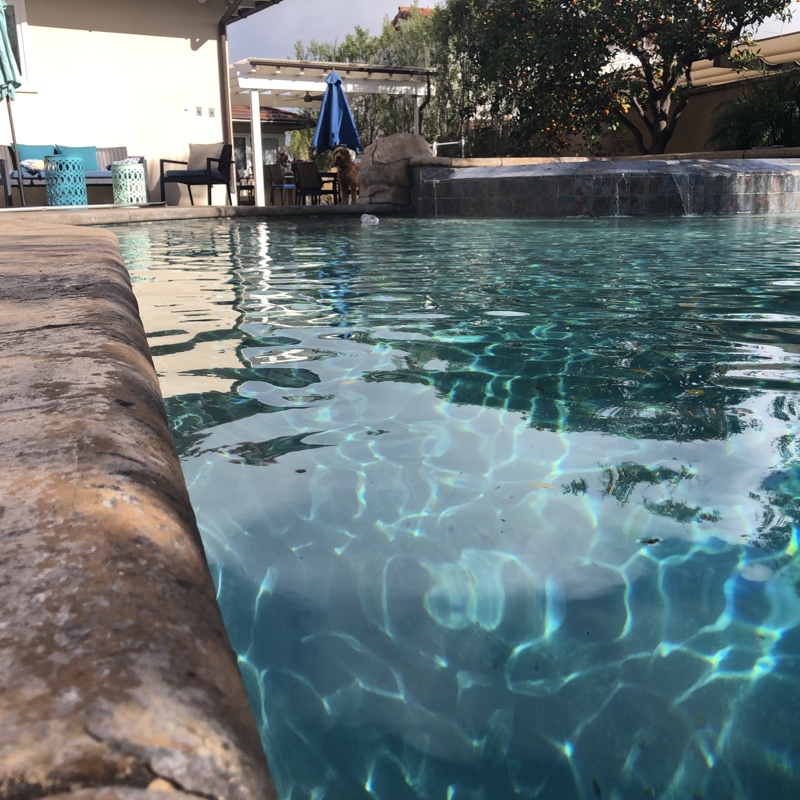Plastic Bottle: (356, 211, 380, 229)
